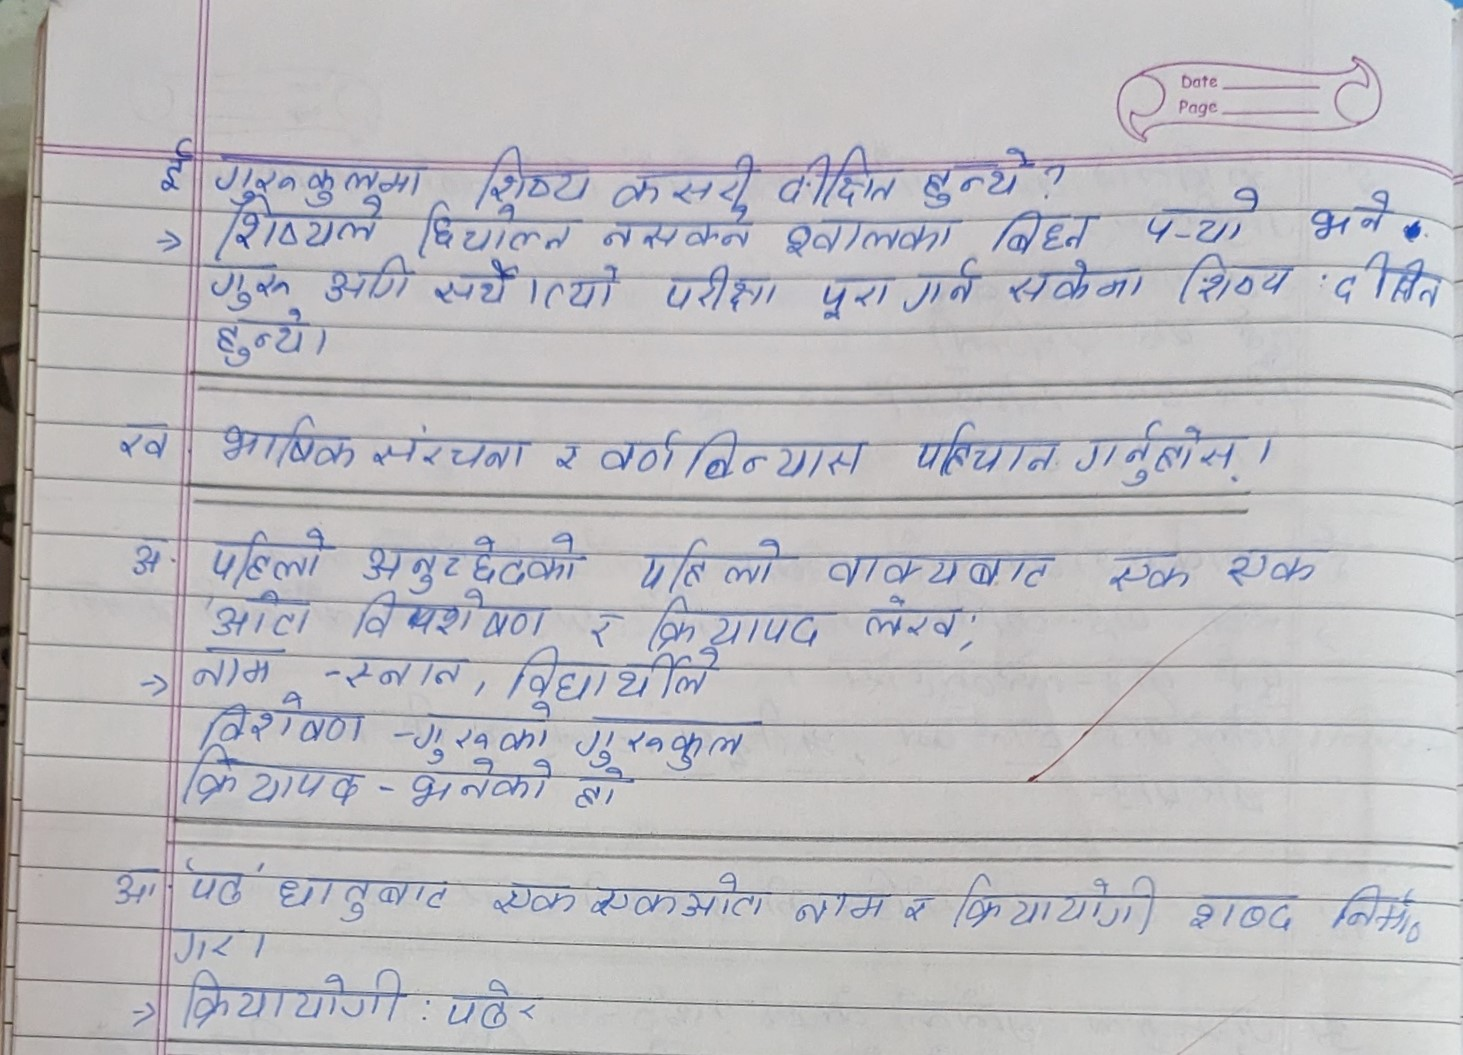text: (597, 419, 873, 482), (354, 525, 587, 593), (174, 966, 410, 1030), (947, 868, 1159, 937), (212, 135, 420, 199), (1072, 417, 1251, 488), (498, 647, 726, 702), (168, 746, 367, 804), (818, 541, 1061, 587), (571, 710, 764, 768), (628, 529, 802, 593), (587, 866, 767, 928), (268, 864, 453, 921), (358, 411, 530, 471), (189, 692, 376, 746), (905, 416, 1065, 479), (645, 594, 831, 648), (203, 408, 357, 474), (345, 593, 550, 640), (410, 201, 585, 256), (605, 146, 756, 209), (206, 514, 332, 588), (214, 199, 387, 249), (772, 141, 898, 206), (1173, 248, 1297, 312), (778, 213, 959, 258), (413, 704, 562, 757), (1132, 184, 1266, 243), (1326, 248, 1447, 312), (467, 144, 594, 203), (655, 261, 785, 319), (914, 143, 1033, 206), (596, 209, 756, 254), (400, 759, 554, 805), (998, 257, 1152, 303), (441, 972, 557, 1033), (208, 308, 315, 369), (1176, 884, 1301, 936), (1220, 533, 1328, 591), (855, 594, 969, 648), (1327, 881, 1423, 944), (1098, 537, 1197, 594), (334, 651, 473, 690), (204, 588, 315, 638), (1296, 184, 1391, 240), (900, 257, 988, 316), (316, 253, 416, 305), (200, 257, 300, 308), (990, 206, 1094, 254), (429, 257, 521, 310), (538, 259, 622, 316), (792, 881, 891, 928), (184, 640, 284, 686), (808, 271, 892, 323), (486, 871, 577, 918), (108, 408, 179, 463), (143, 132, 200, 196), (102, 852, 167, 909), (181, 859, 253, 909), (122, 521, 172, 586), (165, 923, 245, 963), (540, 422, 586, 476), (575, 768, 633, 810), (898, 876, 939, 929), (582, 604, 628, 651)
